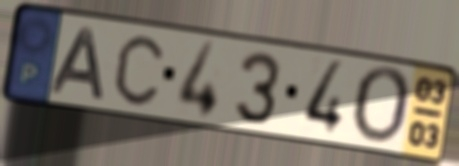3: (233, 48, 283, 126)
4: (174, 37, 222, 123), (299, 56, 348, 140)
A: (49, 26, 108, 103)
C: (112, 33, 166, 109)
O: (350, 64, 415, 149)
